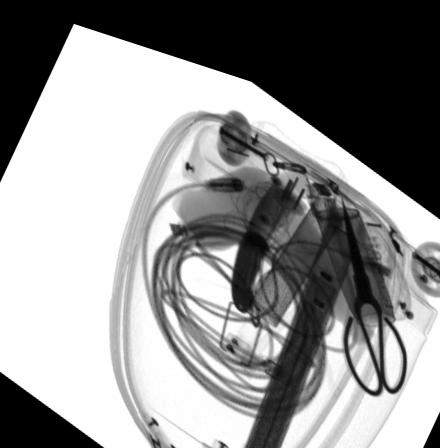Knife: (230, 161, 281, 297)
Scissors: (340, 174, 409, 373)
